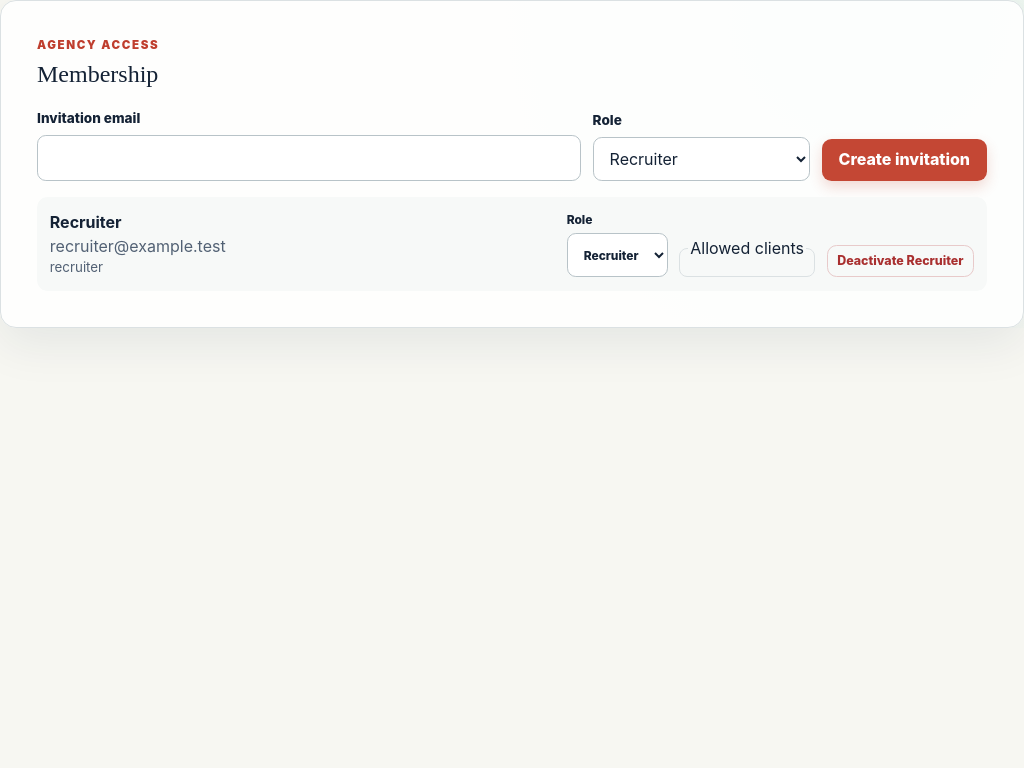
Scenario: MembershipManager › cancels the previous expiry timer before showing a newer invitation
The width and height of the screenshot is (1024, 768).
Type "first@example.test" into the field labelled "Invitation email". click: [309, 158]
box: [37,135,581,181]
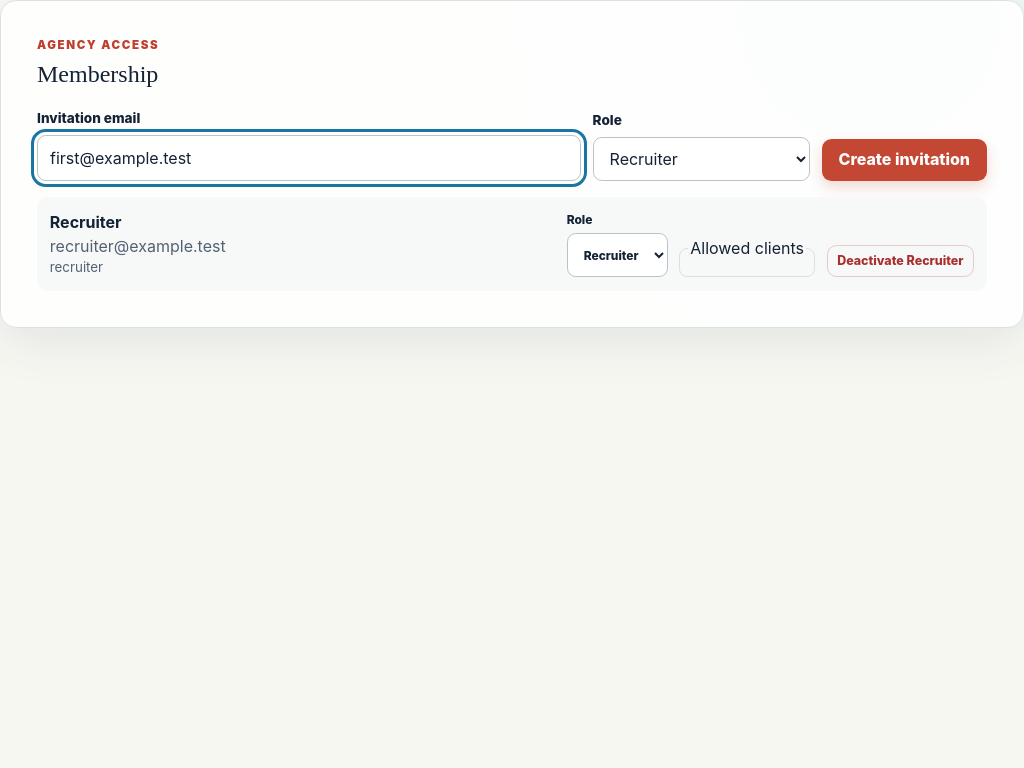
Click the button "Create invitation". click: [904, 160]
box: [822,139,987,181]
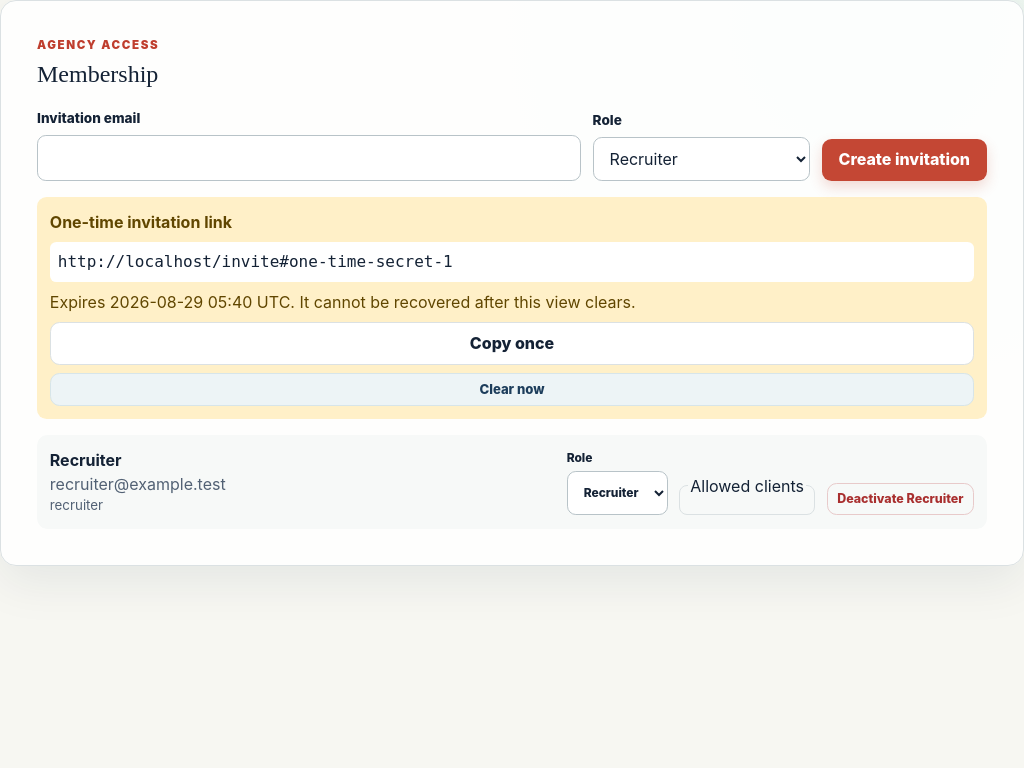
Now the text "http://localhost/invite#one-time-secret-1" is shown, box [50,242,974,282]
Type "second@example.test" into the field labelled "Invitation email". click: [309, 158]
box: [37,135,581,181]
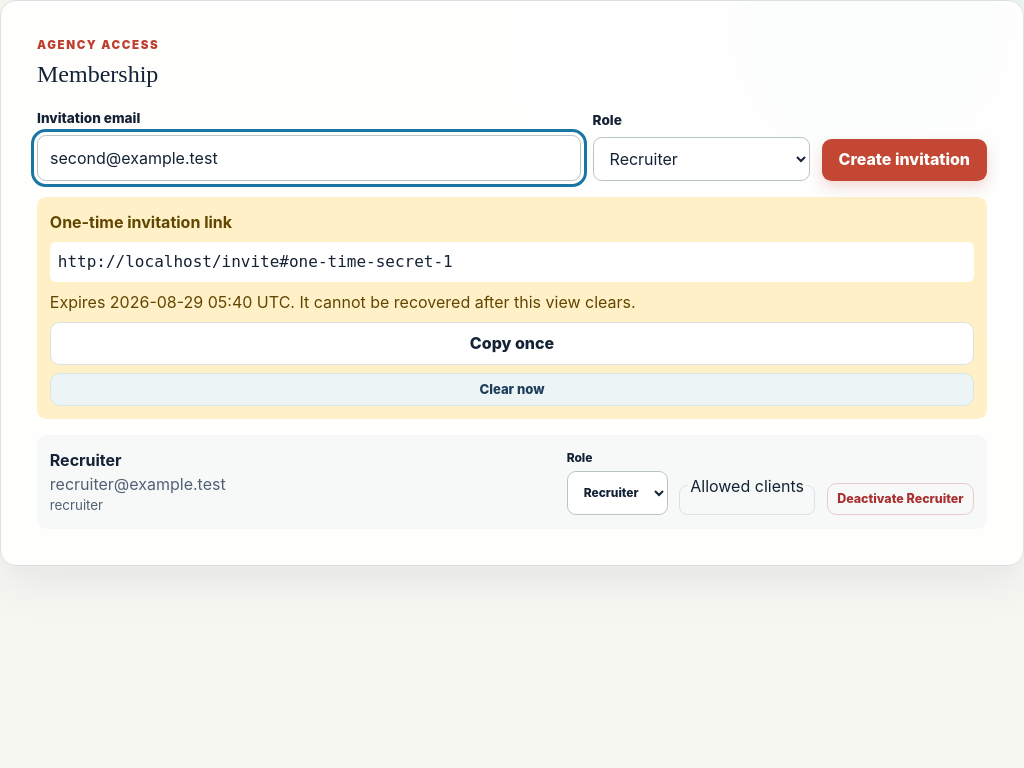
Click the button "Create invitation". click: [904, 160]
box: [822,139,987,181]
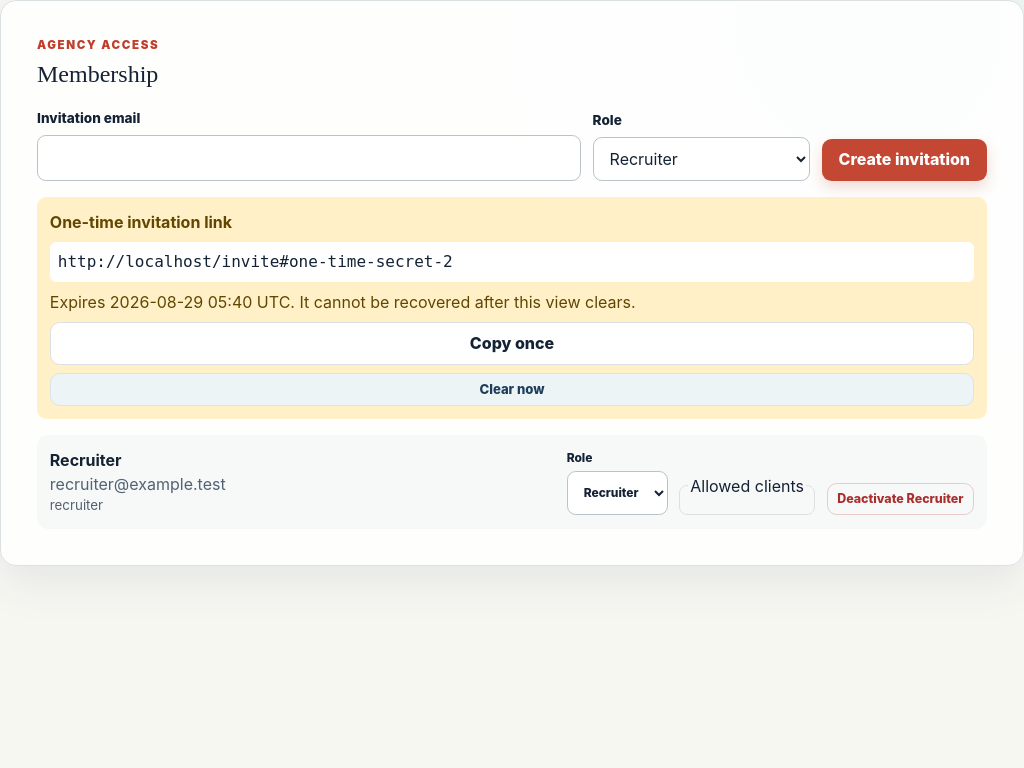
Now the text "http://localhost/invite#one-time-secret-2" is shown, box [50,242,974,282]
